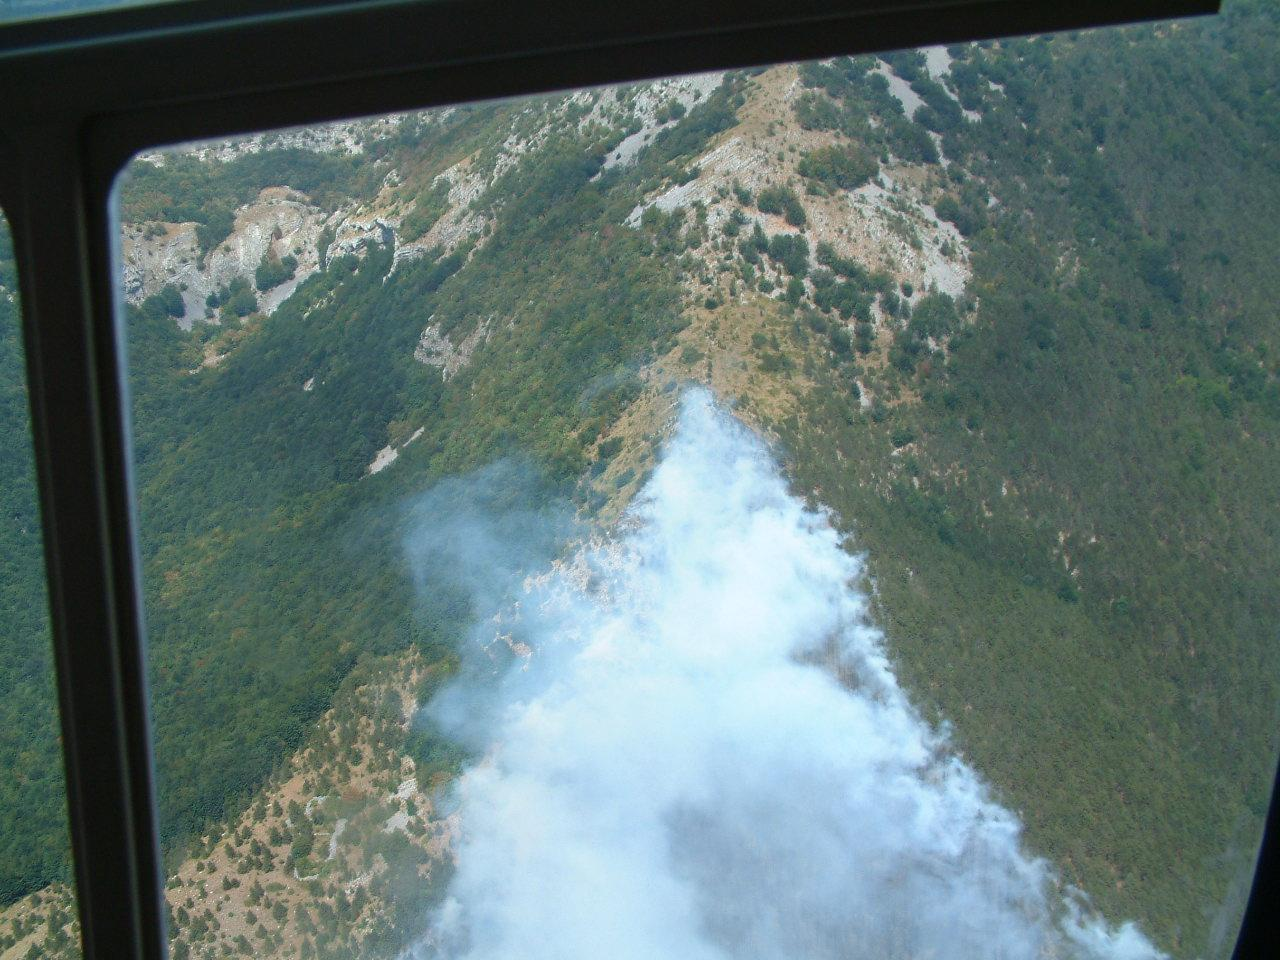Smoke: (384, 373, 1185, 958)
